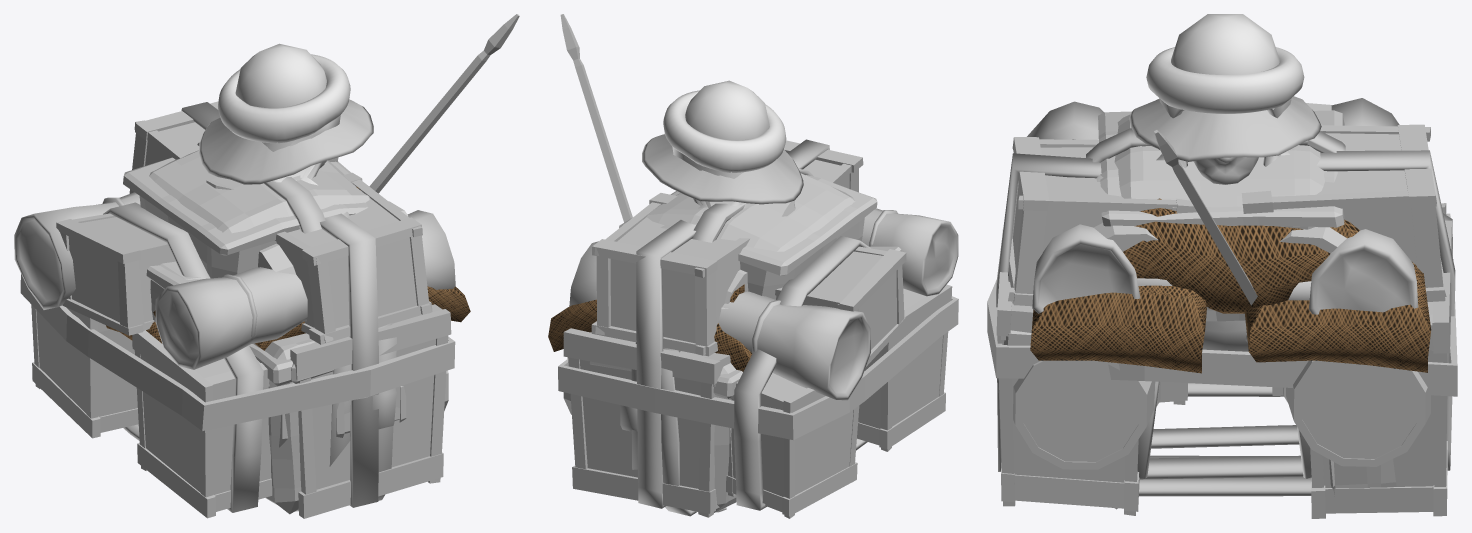
Rendered from Horse1.fbx.
The picture shows the model from 3 angles, left to right: view 1: azimuth 30°, elevation 25°; view 2: azimuth 150°, elevation 25°; view 3: azimuth 270°, elevation 25°; orthographic projection. The views are drawn at different scales.
Visible parts, largest first — view 1: Box.001, Thatch.001, Strap.003, Box.003, Box.006, Trader.002, Creel.005, Box.007, Strap.001, Box.005, Hat.002, Strap.002 (+13 smaller); view 2: Box.004, Box.002, Thatch.002, Strap.003, Box.005, Trader.002, Creel.005, Strap.001, Box.006, Strap.002, Box.007, Hat.002 (+8 smaller); view 3: Barrel.005, Sack.001, Sack.003, Box.002, Barrel.004, Trader.002, Sack.002, Strap.001, Box.003, Box.004, Box.001, Thatch.001 (+18 smaller).
Boxes of the visible parts, <box> form: Box.001: <box>290,304,451,518</box>; Thatch.001: <box>155,210,455,369</box>; Strap.003: <box>20,274,455,430</box>; Box.003: <box>275,172,432,344</box>; Box.006: <box>132,330,272,518</box>; Trader.002: <box>218,43,350,185</box>; Creel.005: <box>139,150,369,278</box>; Box.007: <box>56,213,175,335</box>; Strap.001: <box>181,102,378,507</box>; Box.005: <box>31,305,138,438</box>; Hat.002: <box>199,99,373,184</box>; Strap.002: <box>103,202,263,512</box>; Box.004: <box>563,328,730,517</box>; Box.002: <box>591,193,749,356</box>; Thatch.002: <box>569,241,870,400</box>; Strap.003: <box>558,296,958,440</box>; Box.005: <box>726,373,862,518</box>; Trader.002: <box>663,80,786,208</box>; Creel.005: <box>647,173,864,299</box>; Strap.001: <box>636,139,829,508</box>; Box.006: <box>857,284,952,451</box>; Strap.002: <box>734,236,870,510</box>; Box.007: <box>775,246,906,366</box>; Hat.002: <box>642,134,803,204</box>; Barrel.005: <box>1013,360,1160,469</box>; Sack.001: <box>1030,285,1206,373</box>; Sack.003: <box>1123,198,1359,313</box>; Box.002: <box>1241,124,1446,301</box>; Barrel.004: <box>1283,360,1430,466</box>; Trader.002: <box>1146,14,1304,160</box>; Sack.002: <box>1245,261,1431,372</box>; Strap.001: <box>996,150,1455,479</box>; Box.003: <box>1008,137,1196,306</box>; Box.004: <box>1310,220,1452,518</box>; Box.001: <box>996,229,1139,515</box>; Thatch.001: <box>1027,101,1140,313</box>.
Bounding box in the file's own units: 201 × 234 × 234.
